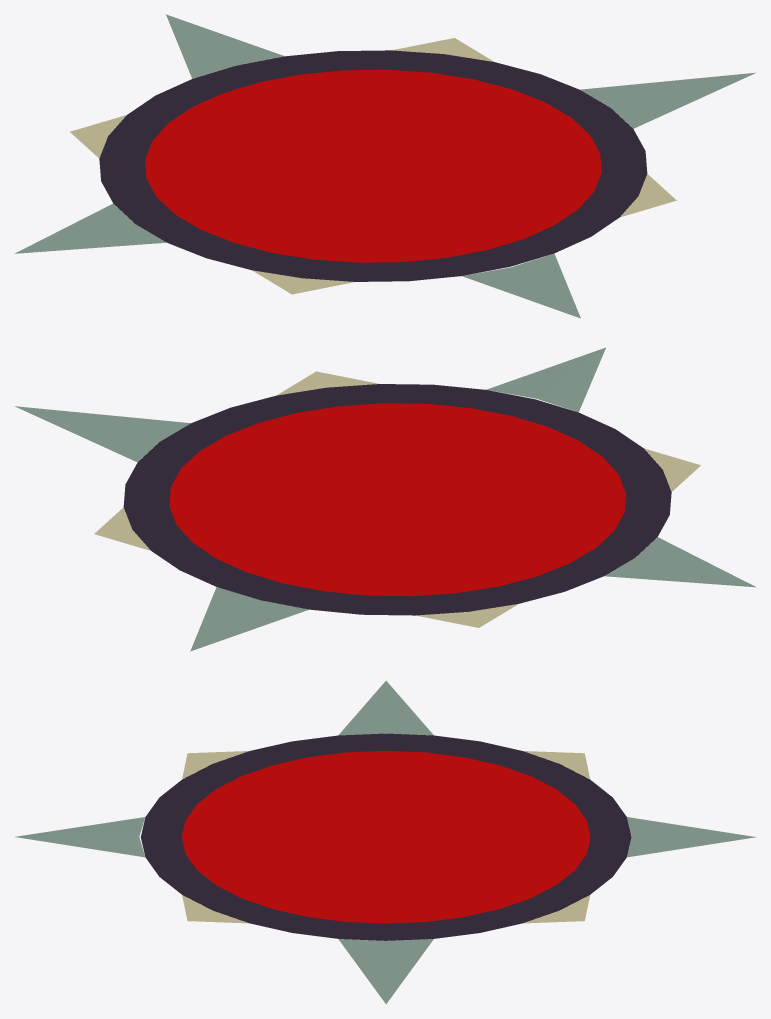
Rendered from Bad Circle.fbx.
3 views of the same model, one above another, from view 1: azimuth 30°, elevation 25°; view 2: azimuth 150°, elevation 25°; view 3: azimuth 270°, elevation 25° (orthographic). The views are drawn at different scales.
Visible parts, largest first — view 1: Circle.002, Circle; view 2: Circle.002, Circle; view 3: Circle.002, Circle.
Boxes of the visible parts, left/top/right/bottom form: Circle.002: left=99, top=50, right=647, bottom=281; Circle: left=14, top=14, right=755, bottom=318; Circle.002: left=123, top=384, right=671, bottom=615; Circle: left=14, top=347, right=755, bottom=651; Circle.002: left=140, top=733, right=631, bottom=940; Circle: left=15, top=680, right=756, bottom=1004.
Size of the model in its own units: 30584 by 2.81 by 29636.
